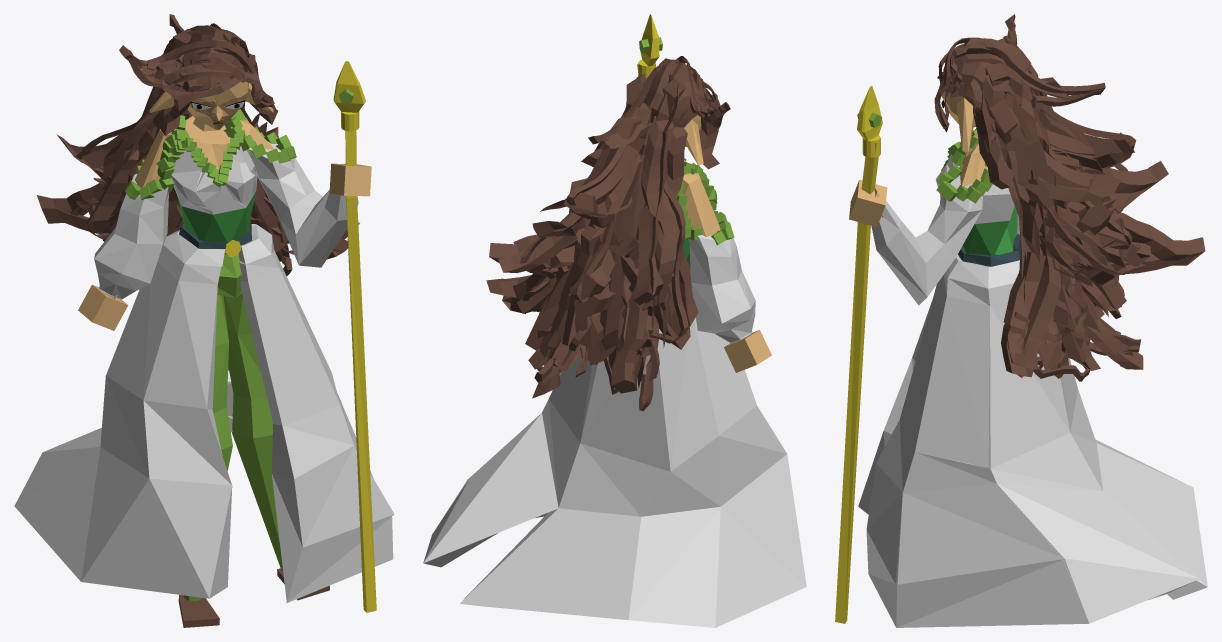
Rendered from elf.glb.
3 renders of one model, left to right at view 1: azimuth 30°, elevation 25°; view 2: azimuth 150°, elevation 25°; view 3: azimuth 270°, elevation 25°, orthographic. The views are drawn at different scales.
Parts seen in each view (by area): view 1: node_MeshObject676762624-PolyPaper20, node_MeshObject-1329888256-PolyPaper23, node_MeshObject1248841728-PolyPaper20; view 2: node_MeshObject676762624-PolyPaper20, node_MeshObject-1329888256-PolyPaper23, node_MeshObject1248841728-PolyPaper20; view 3: node_MeshObject676762624-PolyPaper20, node_MeshObject-1329888256-PolyPaper23, node_MeshObject1248841728-PolyPaper20.
Part boxes in pixels (box(x1,y1,x2,y2)): node_MeshObject676762624-PolyPaper20: box(14, 14, 394, 602); node_MeshObject-1329888256-PolyPaper23: box(37, 30, 376, 627); node_MeshObject1248841728-PolyPaper20: box(78, 25, 365, 330); node_MeshObject676762624-PolyPaper20: box(423, 56, 806, 627); node_MeshObject-1329888256-PolyPaper23: box(486, 64, 755, 398); node_MeshObject1248841728-PolyPaper20: box(636, 14, 771, 372); node_MeshObject676762624-PolyPaper20: box(858, 14, 1207, 627); node_MeshObject-1329888256-PolyPaper23: box(835, 44, 1205, 623); node_MeshObject1248841728-PolyPaper20: box(857, 38, 1084, 178).
Bounding box in the file's own units: 2.05 × 3.31 × 2.03.
